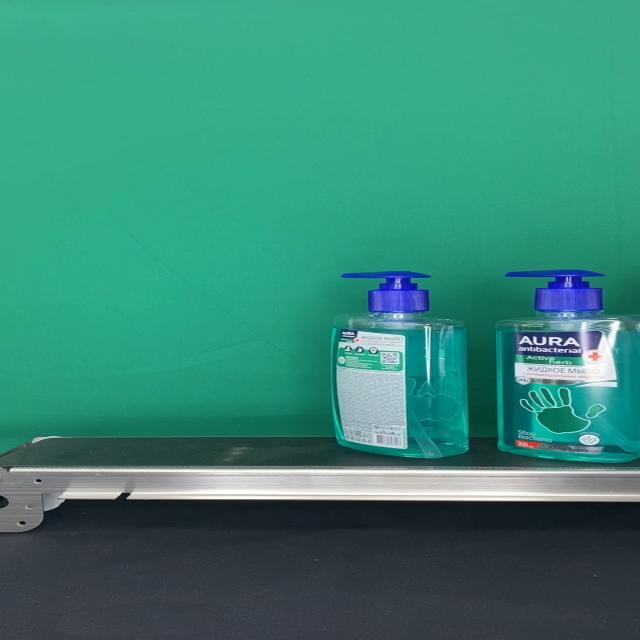Bottle: (495, 269, 640, 462), (330, 271, 470, 458)
Cap: (505, 270, 603, 312), (341, 272, 433, 314)
